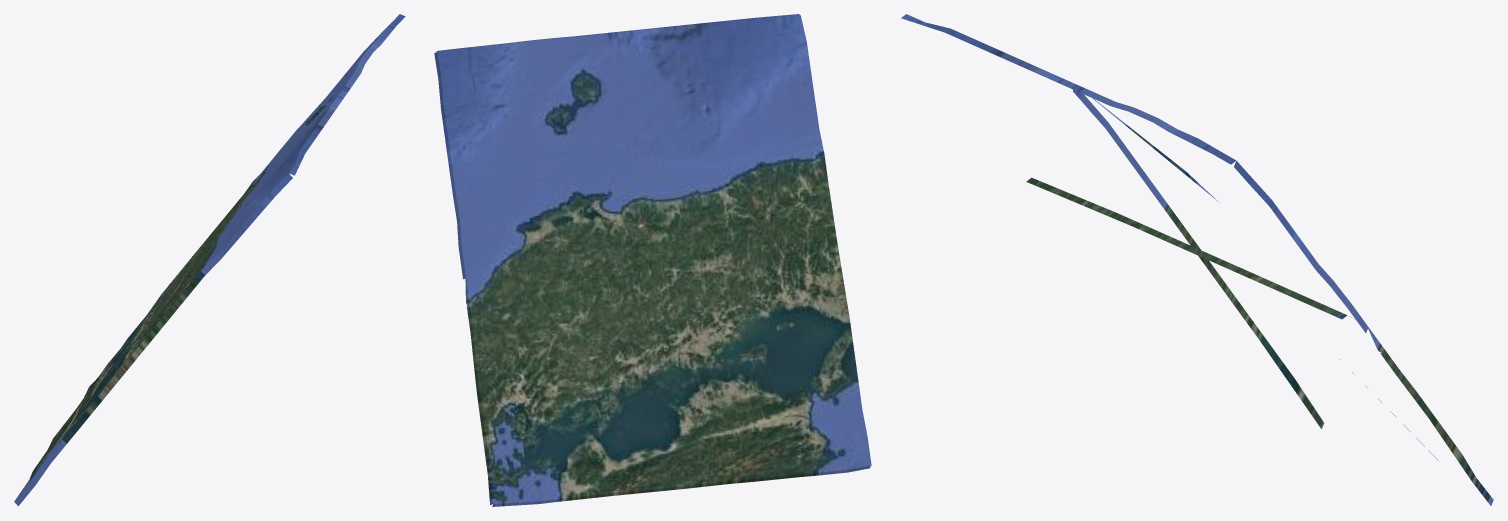
3 renders of one model, left to right at view 1: azimuth 30°, elevation 25°; view 2: azimuth 150°, elevation 25°; view 3: azimuth 270°, elevation 25°, orthographic. The views are drawn at different scales.
Size of the model in its own units: 314873 by 260405 by 312321.
Materials: 1 (1 with a texture image).
